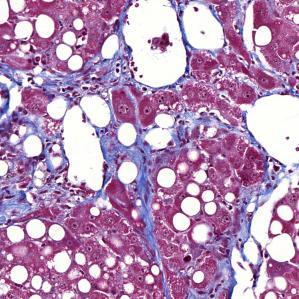fibrosis: (2, 123, 69, 213), (103, 134, 169, 206)
